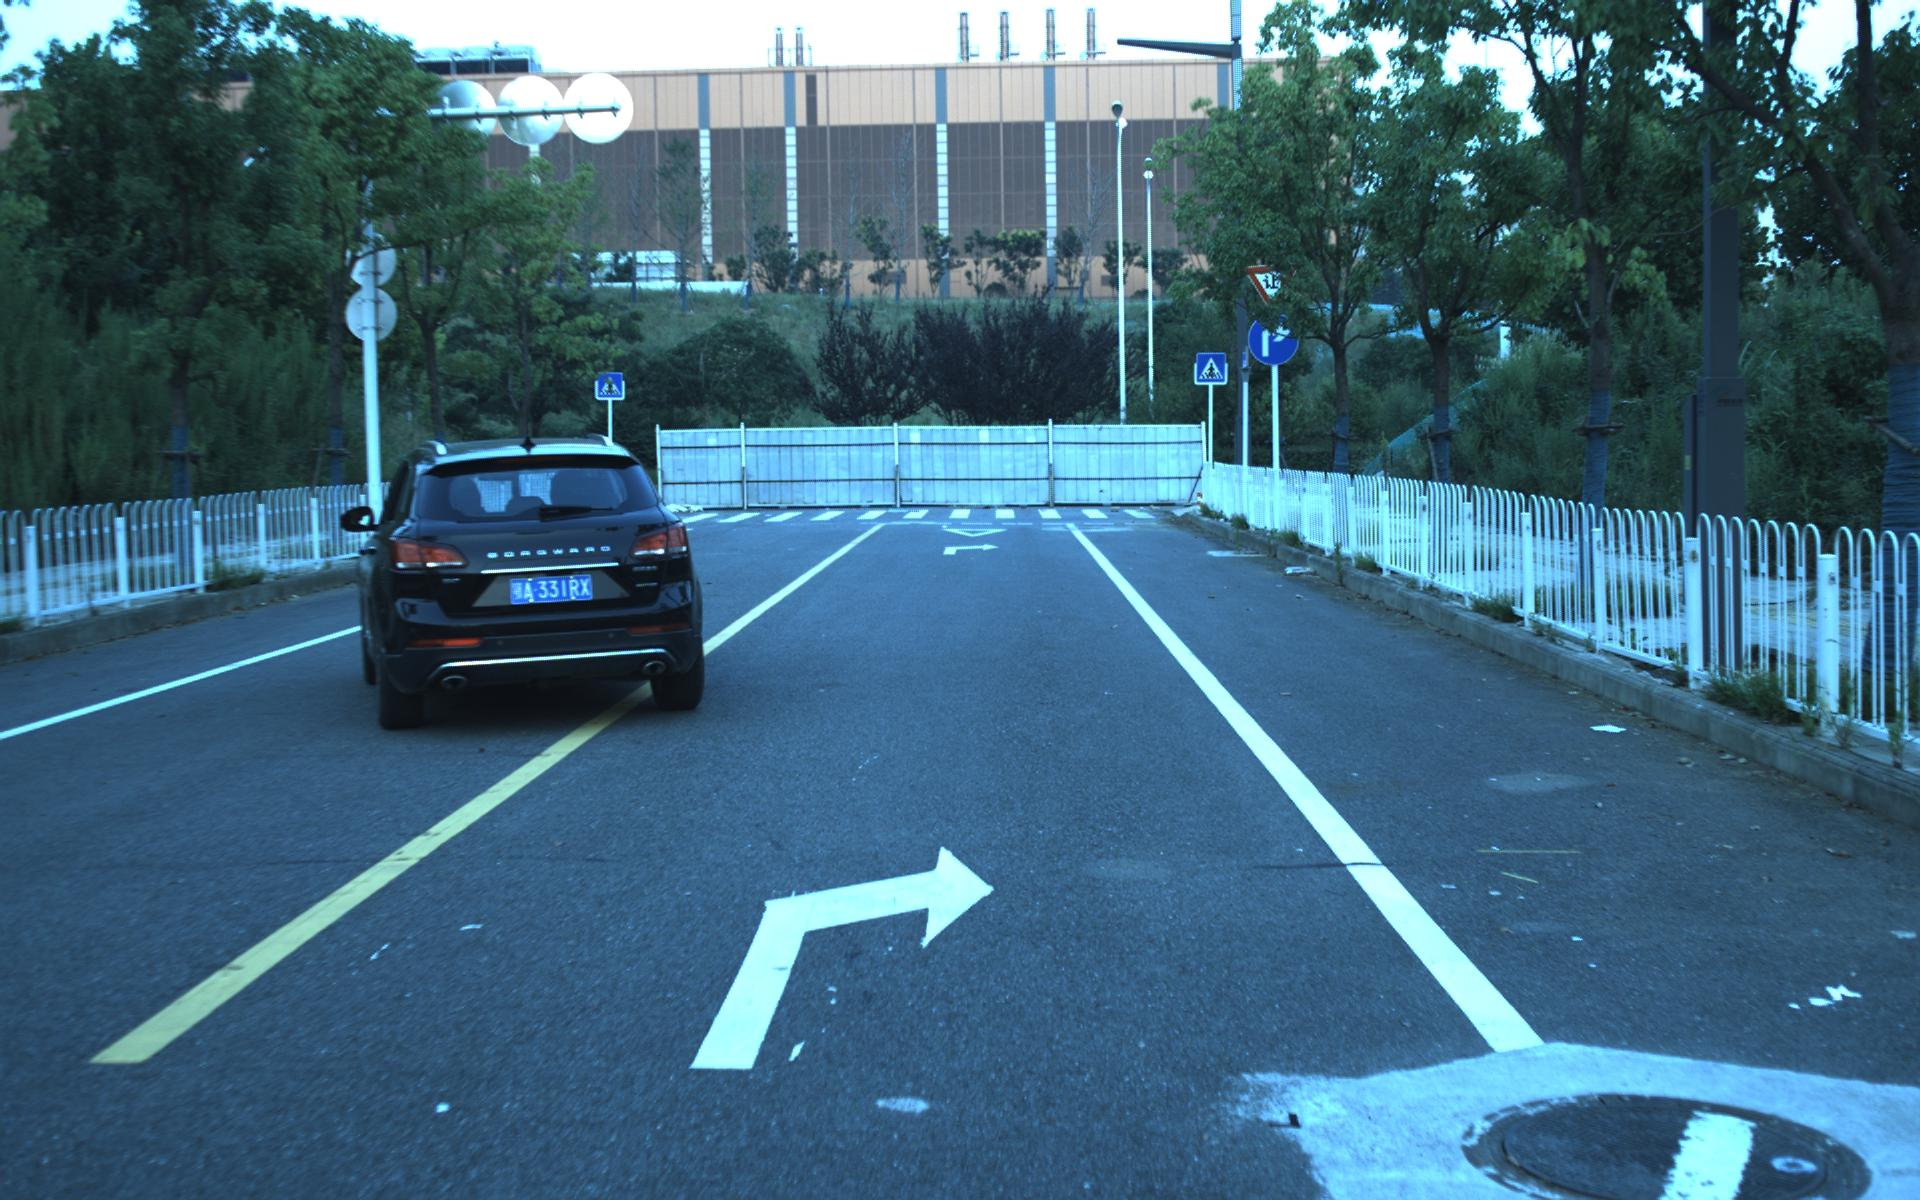Car: (352, 431, 715, 734)
